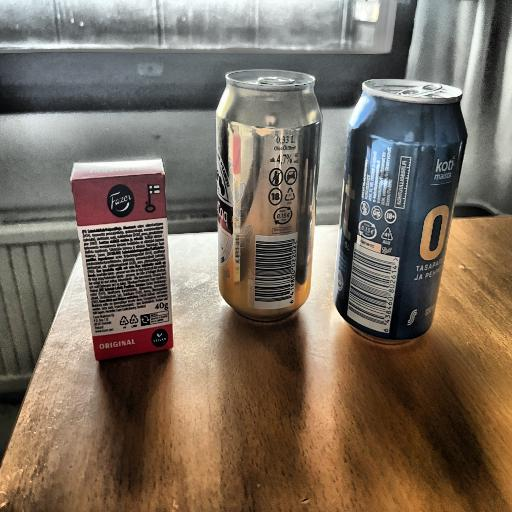A_LeCoq: (197, 52, 321, 330)
koti: (330, 65, 467, 337)
